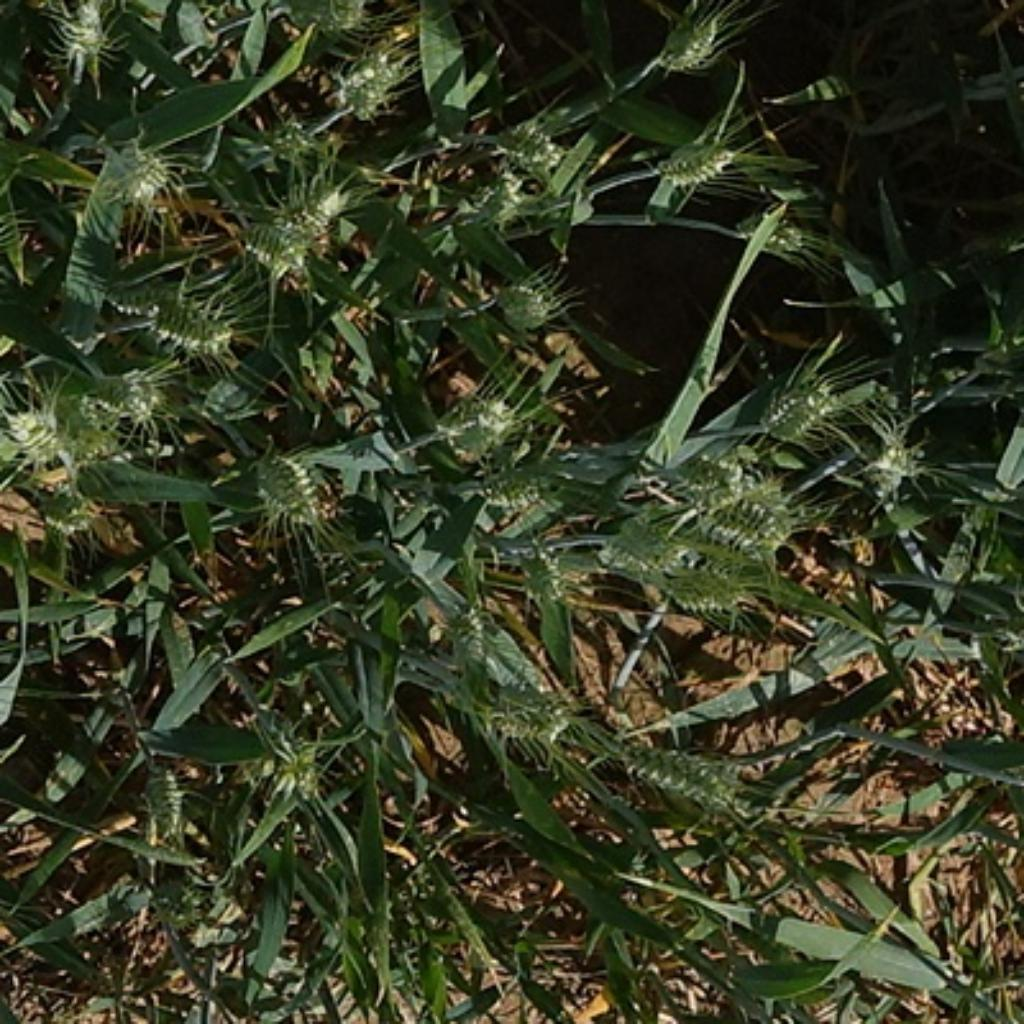0-0: (611, 732, 752, 814), (222, 701, 335, 801), (230, 184, 343, 279), (2, 378, 125, 465), (422, 381, 529, 468), (417, 171, 545, 243), (440, 604, 540, 693), (76, 130, 171, 222), (204, 110, 327, 179), (647, 542, 760, 614), (744, 202, 834, 291), (243, 440, 332, 527), (755, 363, 852, 442), (476, 686, 578, 760), (647, 0, 737, 76), (596, 509, 691, 581), (678, 496, 803, 550), (330, 35, 412, 117), (98, 354, 193, 423), (650, 125, 744, 192), (148, 286, 238, 355), (488, 112, 573, 184), (455, 460, 547, 524), (665, 437, 750, 506), (849, 427, 924, 501), (486, 268, 563, 337), (125, 752, 189, 832), (258, 0, 384, 38), (52, 6, 119, 69), (102, 273, 184, 320), (35, 476, 94, 535), (81, 0, 140, 2)
